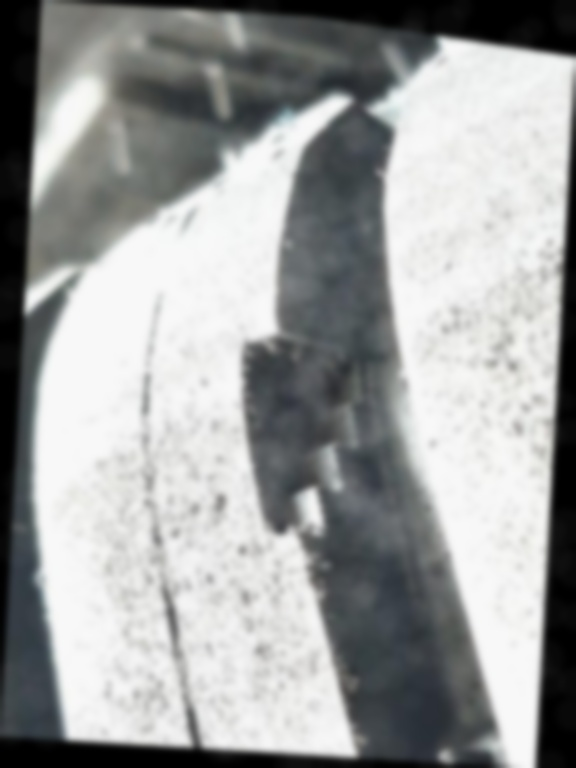temoin:95: (208, 306, 431, 616)
